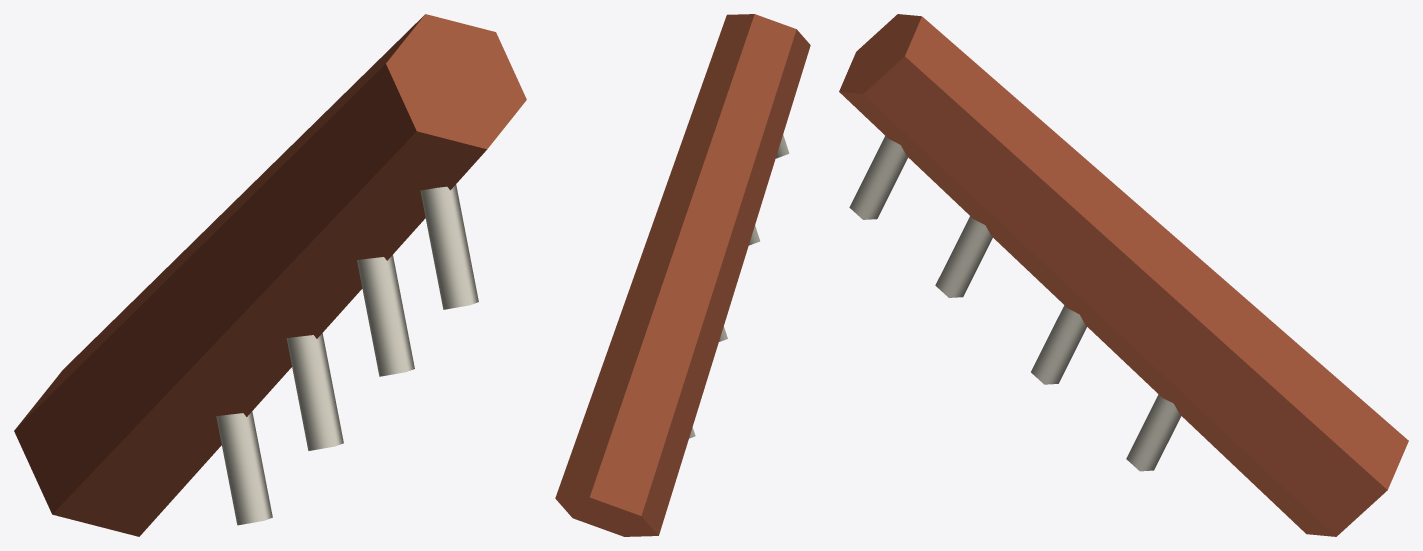
The model's file is rm2_arm_l_fore.obj.
3 views of the same model, side by side, from view 1: azimuth 30°, elevation 25°; view 2: azimuth 150°, elevation 25°; view 3: azimuth 270°, elevation 25° (orthographic). The views are drawn at different scales.
Visible parts, largest first — view 1: rm2_arm_l_fore; view 2: rm2_arm_l_fore; view 3: rm2_arm_l_fore.
Boxes of the visible parts, box(x1,y1,x2,y2) form: rm2_arm_l_fore: box(14, 14, 526, 536); rm2_arm_l_fore: box(555, 14, 810, 536); rm2_arm_l_fore: box(839, 14, 1408, 536).
Bounding box in the file's own units: 0.0876 × 0.3429 × 0.3345.
